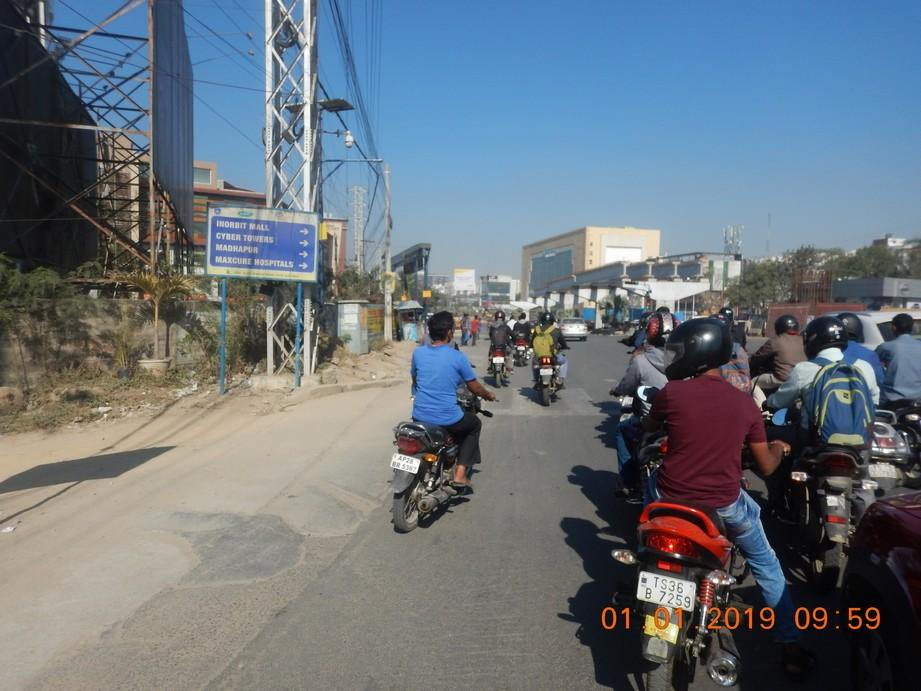plate: (636, 568, 696, 613), (388, 451, 422, 476)
